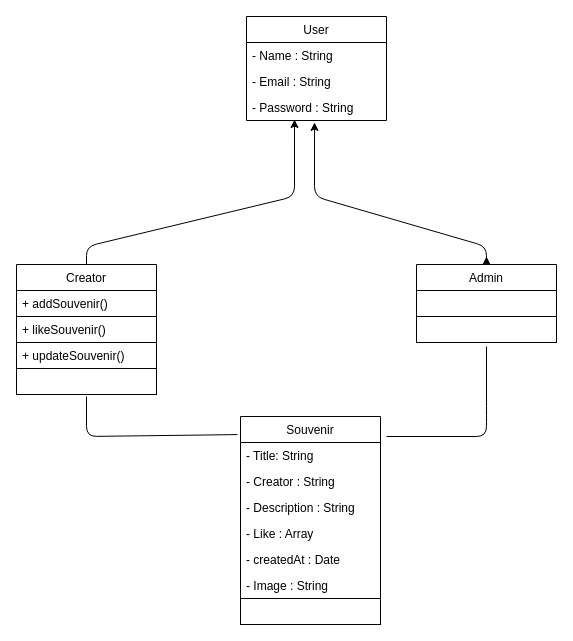
The diagram is 573 pixels wide and 641 high, and some of its shapes have lost their labels. Each missing label, with the centre of its shape:
"+ CRUDProduct()" belongs at [310,611].
"+ deleteSouvenir()" belongs at [86,381].
"+ manageSouvenirs()" belongs at [486,303].
"+ manageUsers()" belongs at [486,329].
